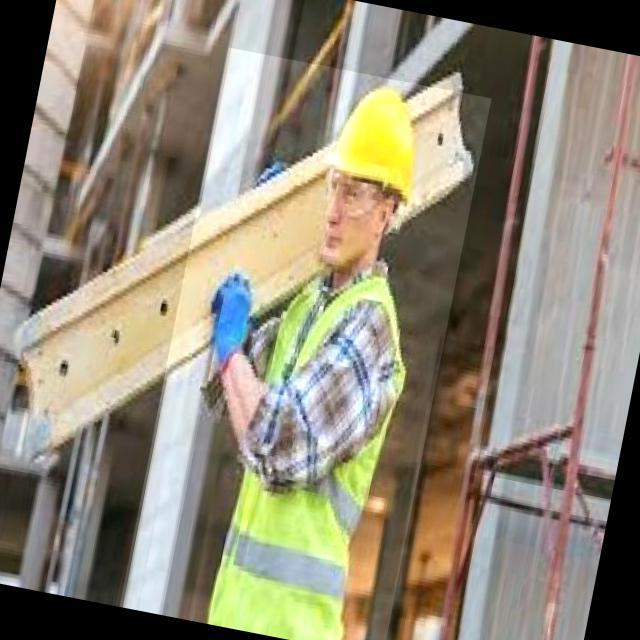Gloves: (202, 268, 259, 374)
Helmet: (320, 77, 435, 210)
Person: (182, 48, 451, 640)
Safety Vest: (202, 255, 412, 640)
